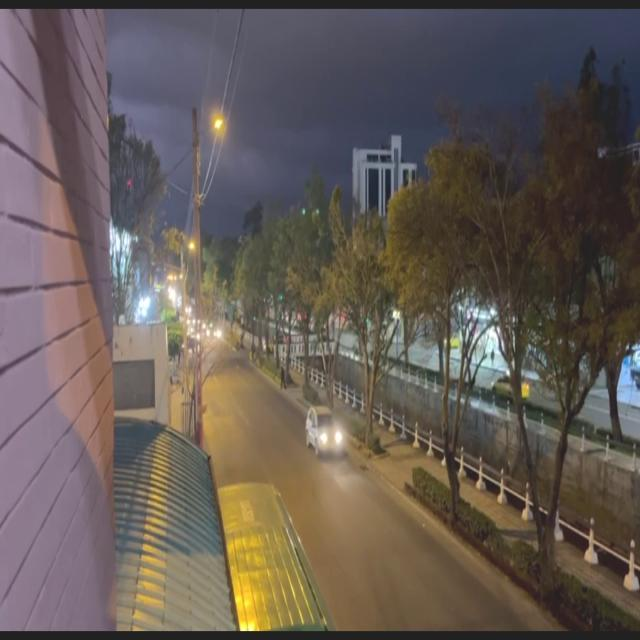SUV: (310, 409, 344, 457)
